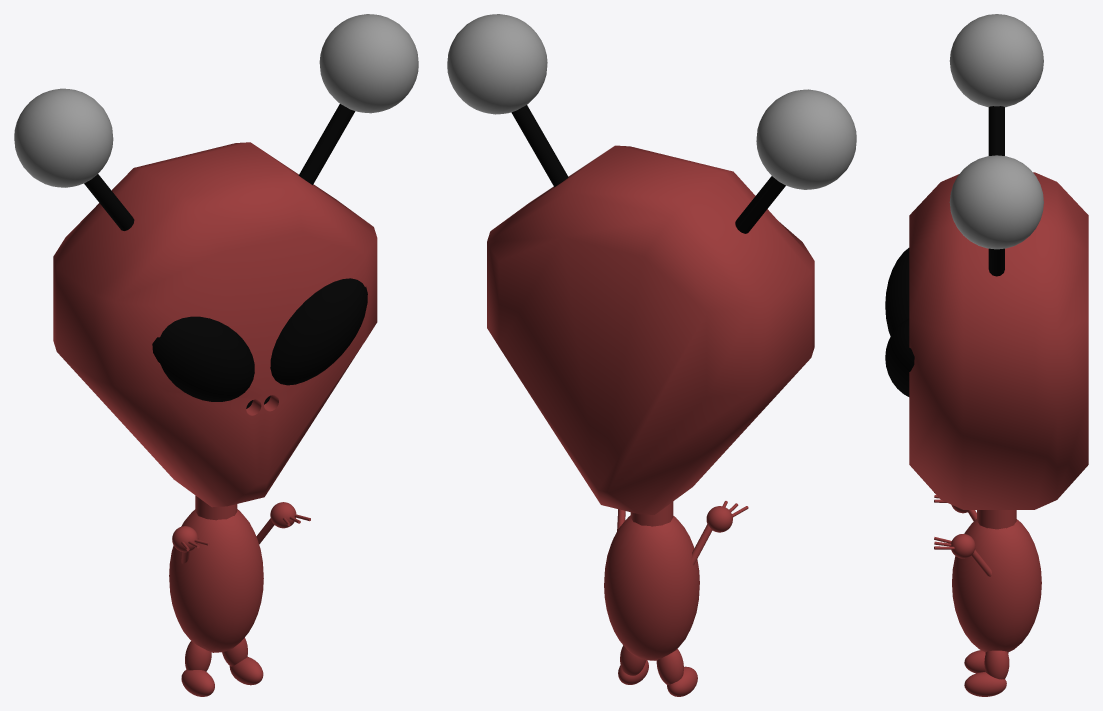
File: alien.FBX
3 views of the same model, side by side, from view 1: azimuth 30°, elevation 25°; view 2: azimuth 150°, elevation 25°; view 3: azimuth 270°, elevation 25° (orthographic). The views are drawn at different scales.
Parts seen in each view (by area): view 1: alien; view 2: alien; view 3: alien.
Part boxes in pixels (bbox=[...]): alien: bbox=[14, 14, 418, 696]; alien: bbox=[447, 14, 856, 696]; alien: bbox=[885, 14, 1088, 696].
Size of the model in its own units: 87.66 by 134 by 41.62.
